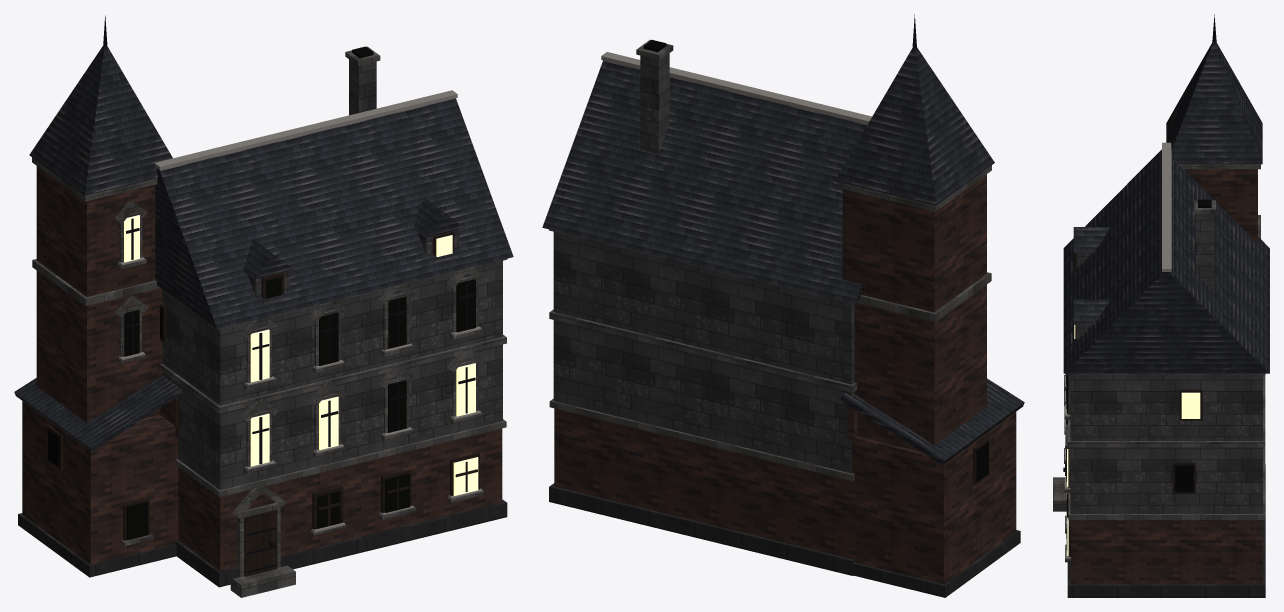
The model's file is CasaB20.gltf.
The picture shows the model from 3 angles, left to right: view 1: azimuth 30°, elevation 25°; view 2: azimuth 150°, elevation 25°; view 3: azimuth 270°, elevation 25°; orthographic projection. The views are drawn at different scales.
Parts seen in each view (by area): view 1: CasaB20; view 2: CasaB20; view 3: CasaB20.
Part boxes in pixels (bbox=[...]): CasaB20: bbox=[14, 15, 513, 597]; CasaB20: bbox=[542, 14, 1024, 597]; CasaB20: bbox=[1053, 14, 1269, 597].
Bounding box in the file's own units: 15.2 × 20.03 × 8.62.
Materials: 10 (6 with a texture image).
